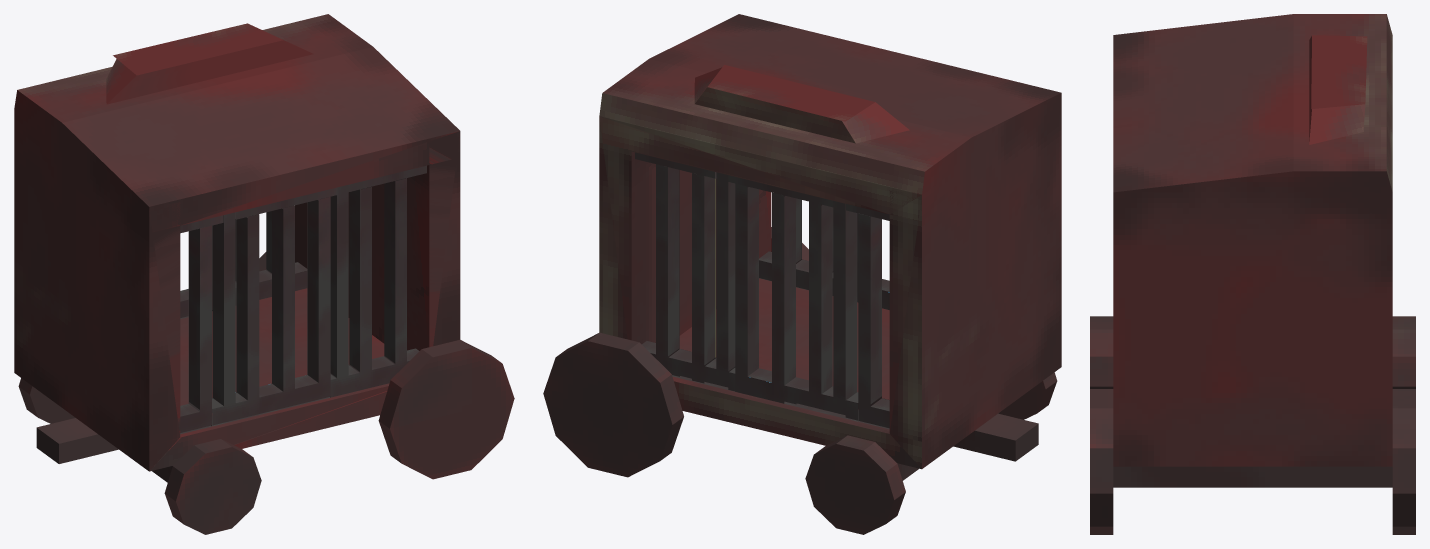
Rendered from cart_cage.gltf.
3 views of the same model, side by side, from view 1: azimuth 30°, elevation 25°; view 2: azimuth 150°, elevation 25°; view 3: azimuth 270°, elevation 25° (orthographic). The views are drawn at different scales.
Parts seen in each view (by area): view 1: mesh (×2), group, cylinder (×3); view 2: mesh (×2), group, cylinder (×3); view 3: mesh (×2), cylinder (×4).
Boxes of the visible parts, x1,y1,x2,y2 form: mesh (×2): (14, 14, 460, 471); group: (180, 165, 426, 434); cylinder (×3): (18, 339, 514, 534); mesh (×2): (599, 14, 1061, 469); group: (635, 152, 889, 429); cylinder (×3): (543, 332, 1057, 534); mesh (×2): (1113, 14, 1392, 487); cylinder (×4): (1090, 316, 1415, 534).
Size of the model in its own units: 1.25 by 1.14 by 0.875.
Materials: 2 (2 with a texture image).
